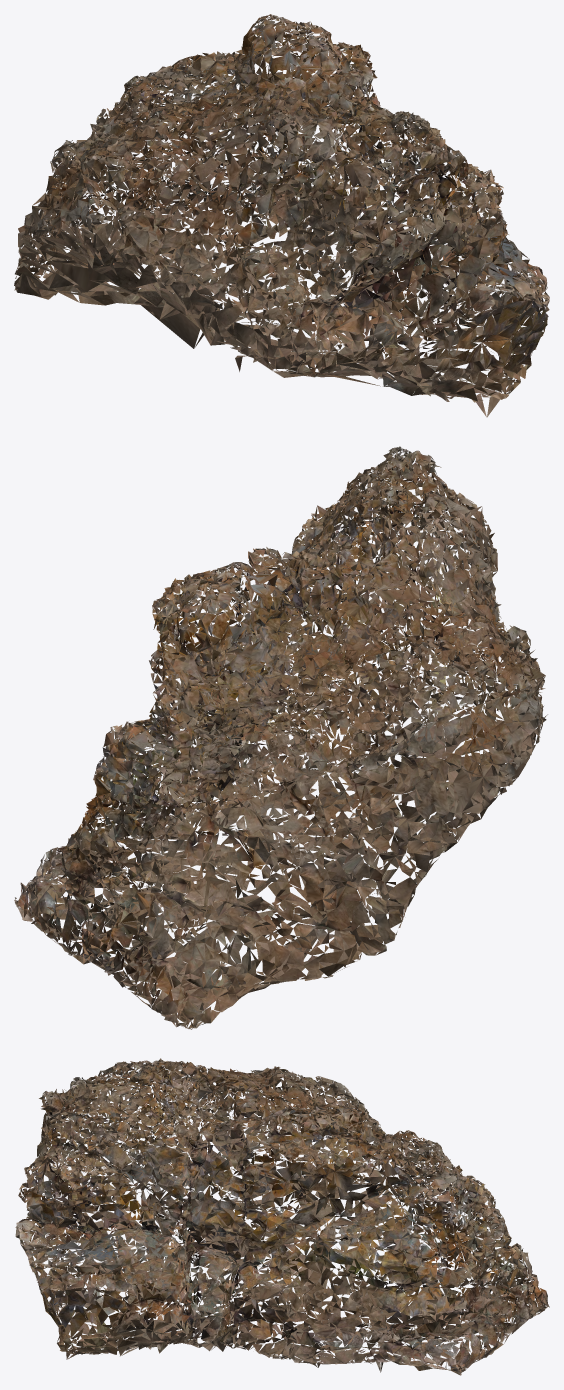
File: boulder_01.glb
3 renders of one model, top to bottom at view 1: azimuth 30°, elevation 25°; view 2: azimuth 150°, elevation 25°; view 3: azimuth 270°, elevation 25°, orthographic. The views are drawn at different scales.
Parts seen in each view (by area): view 1: boulder_01; view 2: boulder_01; view 3: boulder_01.
Boxes of the visible parts, bbox=[...] form: boulder_01: bbox=[14, 14, 549, 417]; boulder_01: bbox=[14, 446, 547, 1029]; boulder_01: bbox=[15, 1058, 549, 1375].
Bounding box in the file's own units: 1.28 × 1.01 × 1.84.
Materials: 1 (1 with a texture image).
